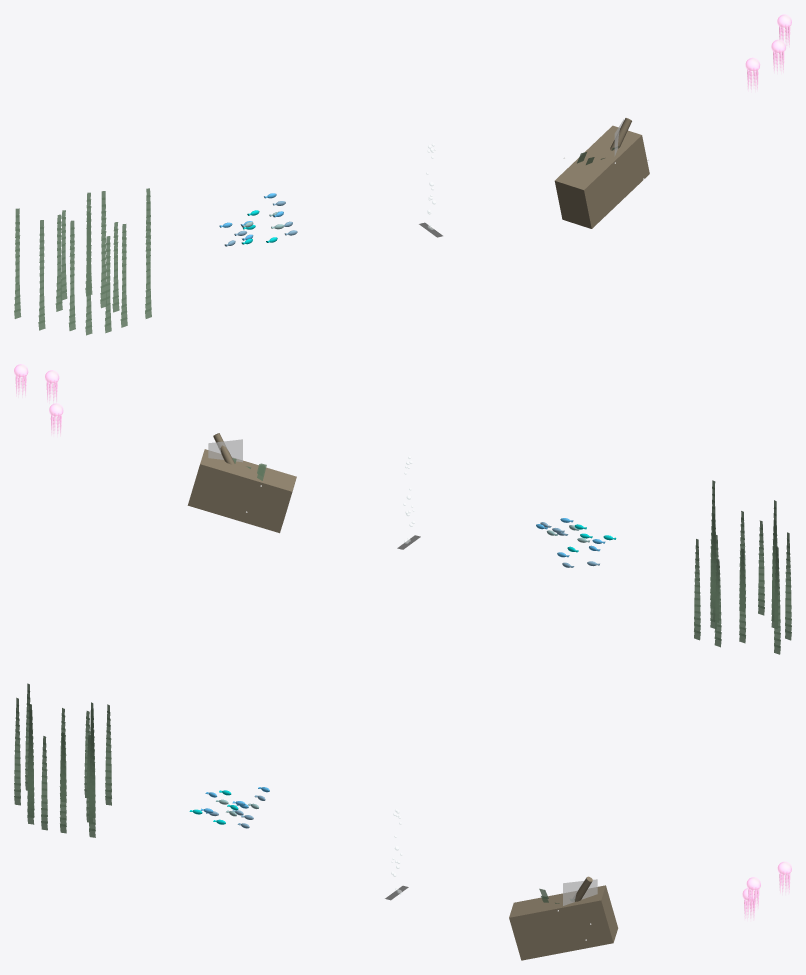
File: scenery_underwater_mobile.glb
3 views of the same model, one above another, from view 1: azimuth 30°, elevation 25°; view 2: azimuth 150°, elevation 25°; view 3: azimuth 330°, elevation 25° (orthographic). The views are drawn at different scales.
Visible parts, largest first — view 1: sunkenShip_mesh; view 2: sunkenShip_mesh (×2); view 3: sunkenShip_mesh (×2).
Part boxes in pixels (x1,y1,x2,y2): sunkenShip_mesh: [554, 125, 649, 228]; sunkenShip_mesh (×2): [187, 439, 296, 533]; sunkenShip_mesh (×2): [509, 879, 618, 960].
Size of the model in its own units: 36.54 by 6.59 by 3.7.
